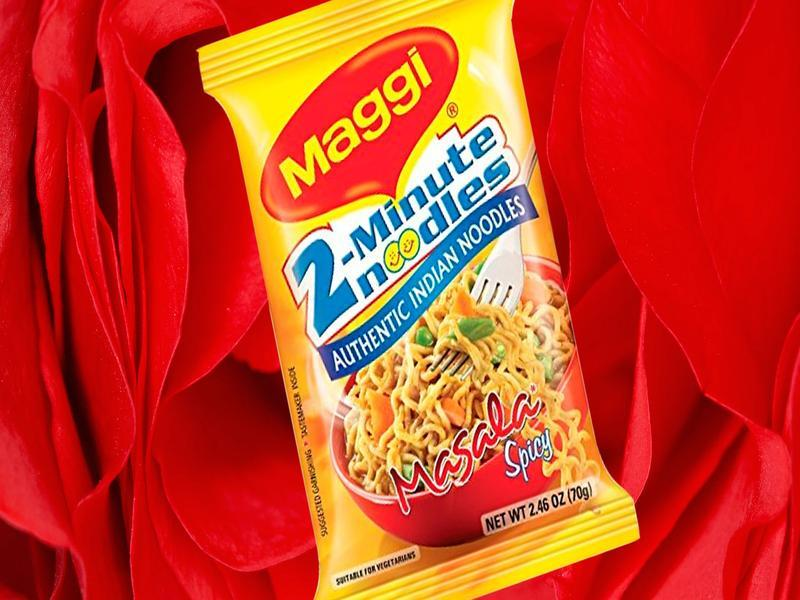maggi-small: (196, 45, 628, 559)
